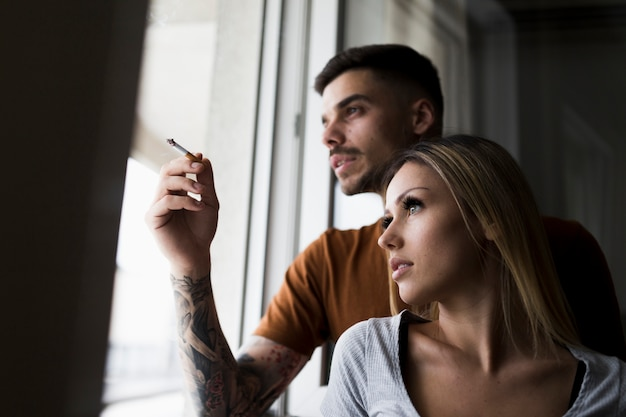cigarette: (165, 135, 201, 163)
